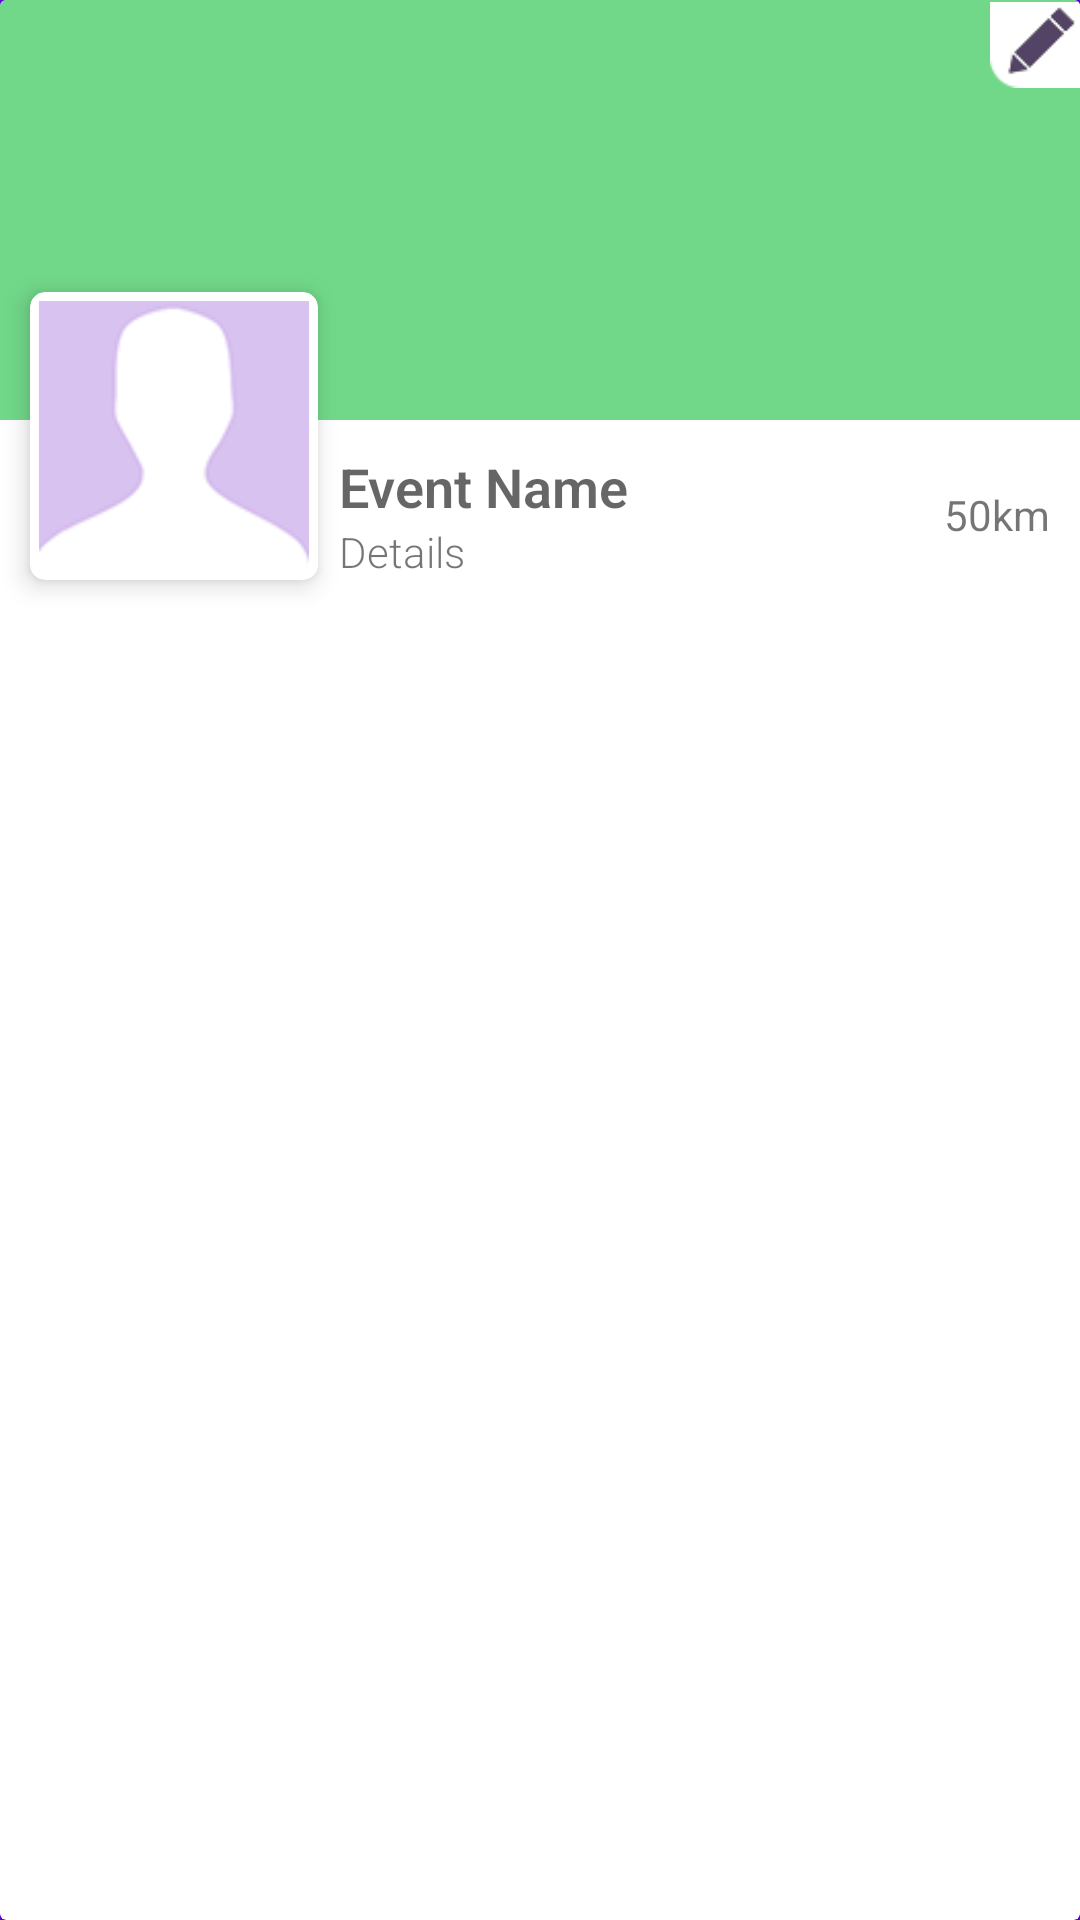

Icons on this 1080px x 1920px Android screen, each with its box as [x1=x1, y1=y1, x2=x2, y2=y2]:
edit: [x1=990, y1=0, x2=1080, y2=88]
profile: [x1=39, y1=301, x2=309, y2=559]
